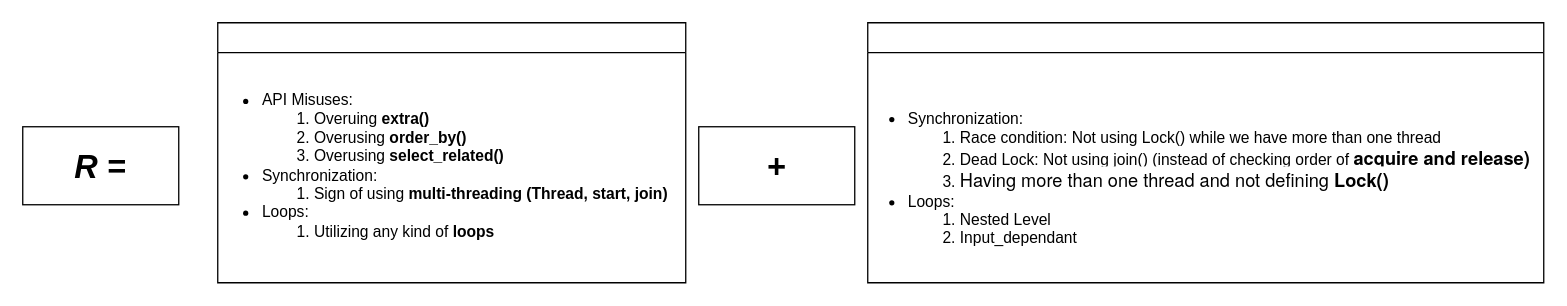
This 1567x306 diagram has some shape labels left out. Here are the shapes that lost their labels. From the top down, the box of each, then its label:
(216, 21, 686, 283): Baseline
(866, 21, 1544, 283): Performance Bug Scenarios
